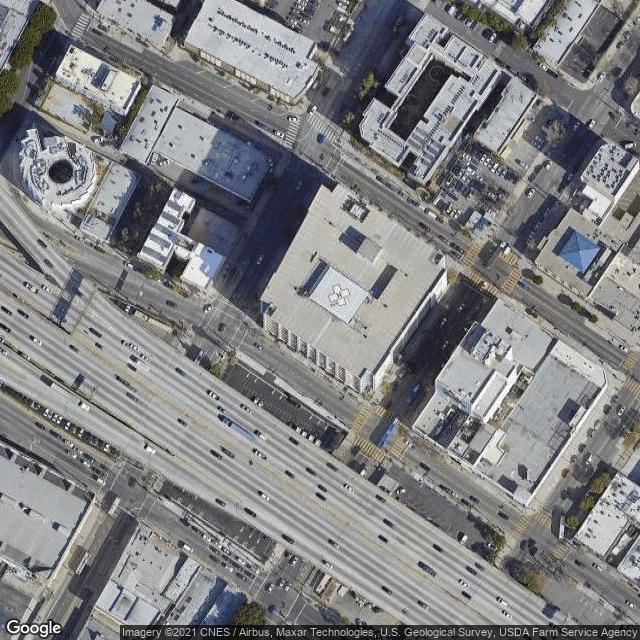Helipad: (323, 278, 355, 312)
